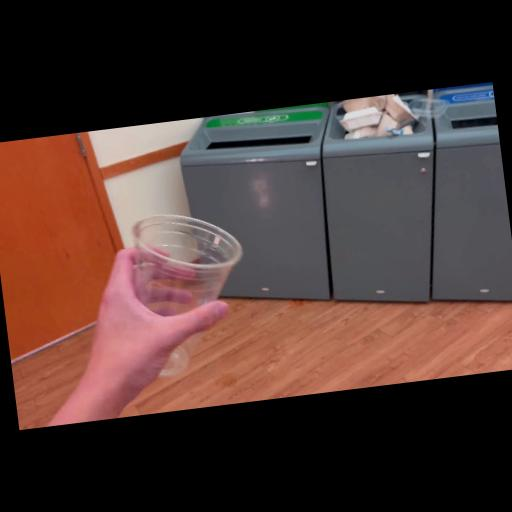lp_plastic_cup: (95, 192, 254, 390)
